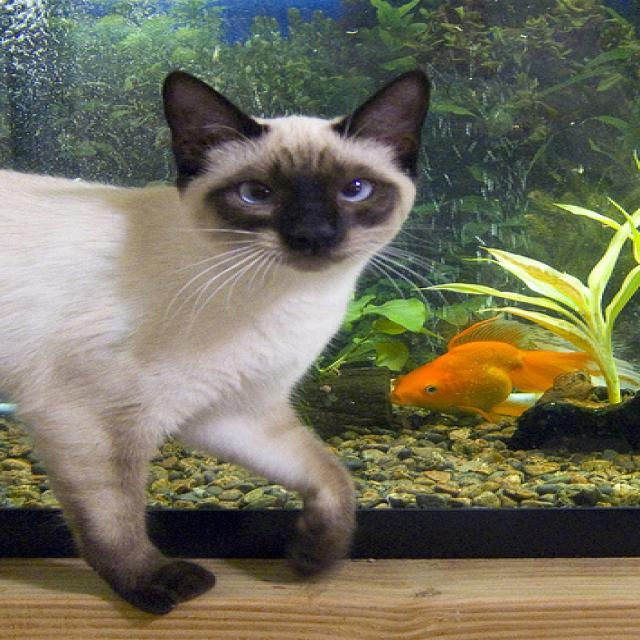Siamese: (159, 69, 427, 269)
